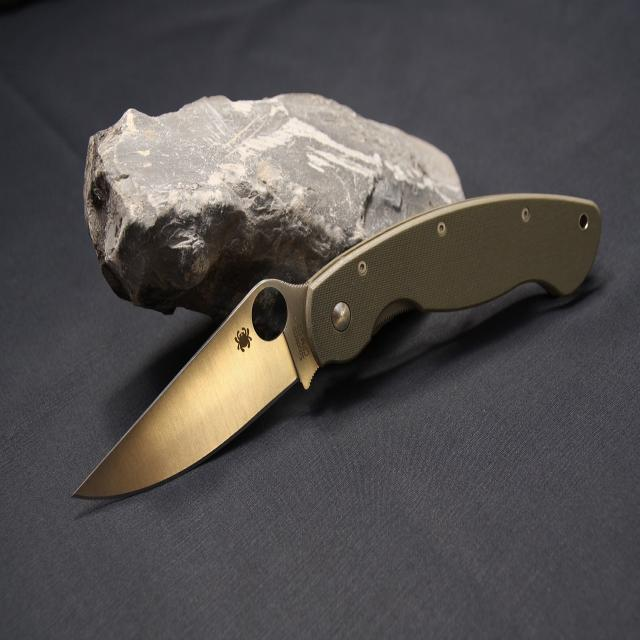Knife: (76, 194, 600, 496)
